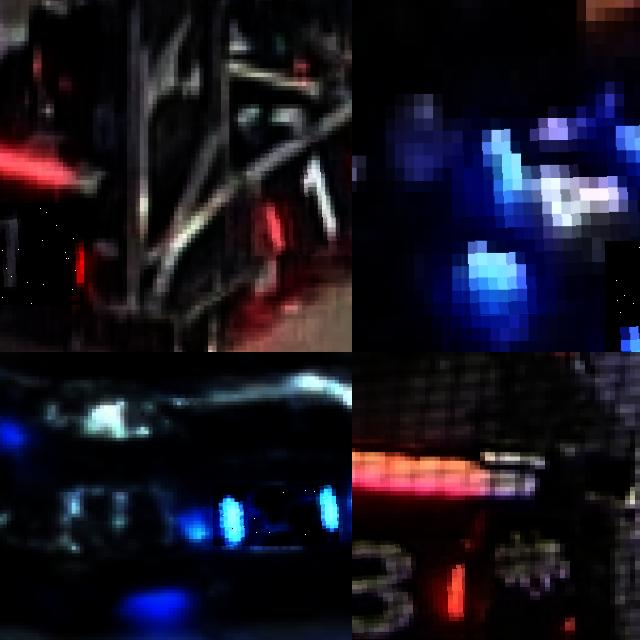B4: (452, 118, 640, 315)
Bs: (213, 485, 339, 546)
R1: (255, 139, 352, 256), (0, 202, 84, 305)
R3: (352, 539, 465, 639)
